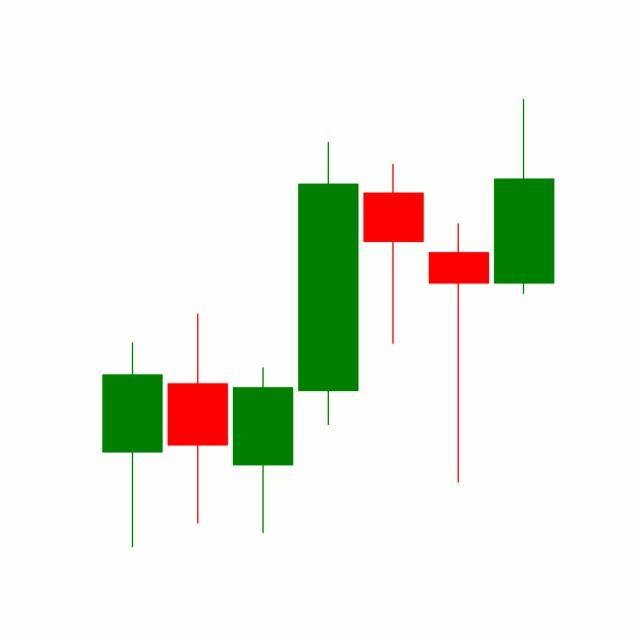Hikkake Pattern: (165, 138, 492, 538)
